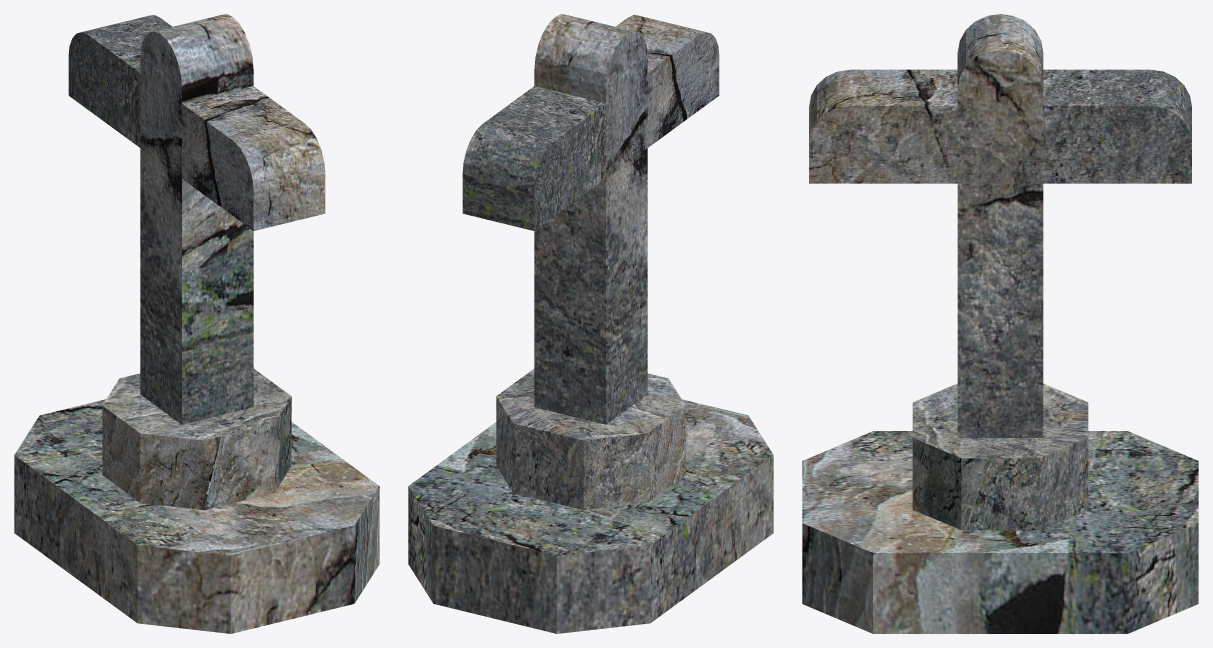
The model's file is Gravestone2.obj.
The picture shows the model from 3 angles, left to right: view 1: azimuth 30°, elevation 25°; view 2: azimuth 150°, elevation 25°; view 3: azimuth 270°, elevation 25°; orthographic projection. The views are drawn at different scales.
Parts seen in each view (by area): view 1: Part2_Cube.001, Gravestone1_Cube.002, Gravestone1.001_Cube.001, Part_Cube.001; view 2: Part2_Cube.001, Gravestone1_Cube.002, Gravestone1.001_Cube.001, Part_Cube.001; view 3: Part2_Cube.001, Gravestone1.001_Cube.001, Gravestone1_Cube.002, Part_Cube.001.
Boxes of the visible parts, <box> form: Part2_Cube.001: <box>14,399,379,633</box>; Gravestone1_Cube.002: <box>140,14,253,424</box>; Gravestone1.001_Cube.001: <box>68,15,325,230</box>; Part_Cube.001: <box>102,369,291,510</box>; Part2_Cube.001: <box>408,399,773,633</box>; Gravestone1_Cube.002: <box>534,14,647,424</box>; Gravestone1.001_Cube.001: <box>462,15,719,230</box>; Part_Cube.001: <box>496,369,685,510</box>; Part2_Cube.001: <box>802,431,1198,633</box>; Gravestone1.001_Cube.001: <box>809,69,1191,183</box>; Gravestone1_Cube.002: <box>957,14,1043,437</box>; Part_Cube.001: <box>912,383,1088,530</box>.
Size of the model in its own units: 6.75 by 13.95 by 9.26.
Materials: 1 (1 with a texture image).
